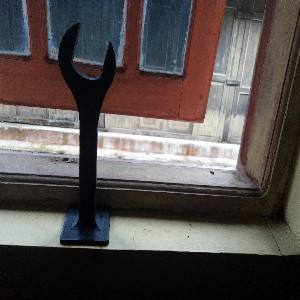spanner: (58, 21, 117, 248)
